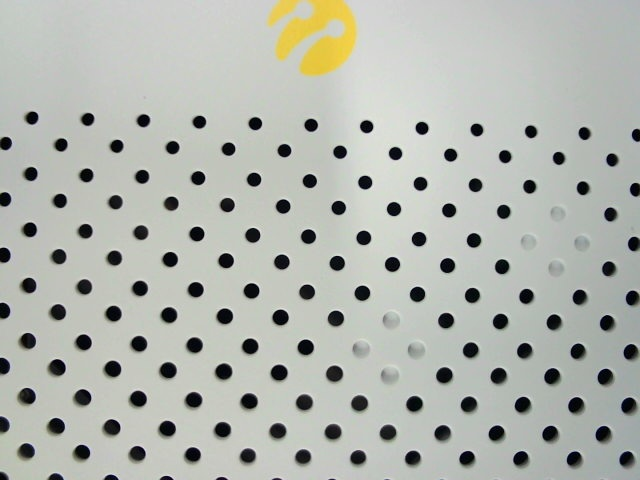AV_H3600Yellow: (263, 4, 378, 79)
